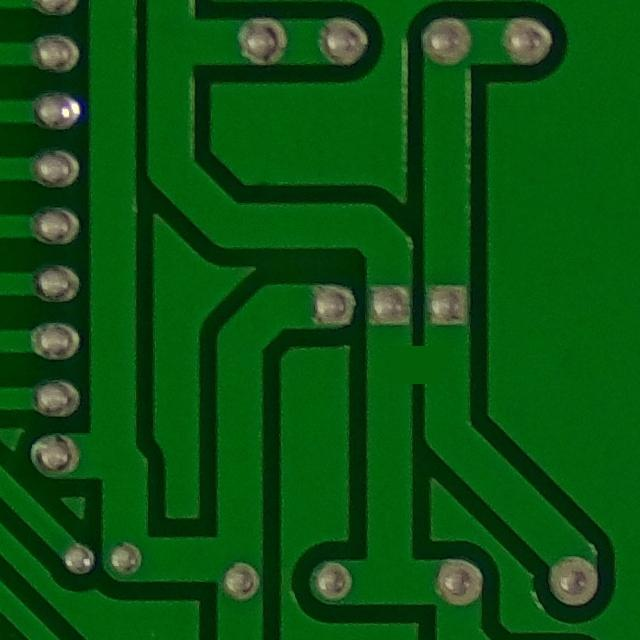short: (379, 334, 460, 403)
